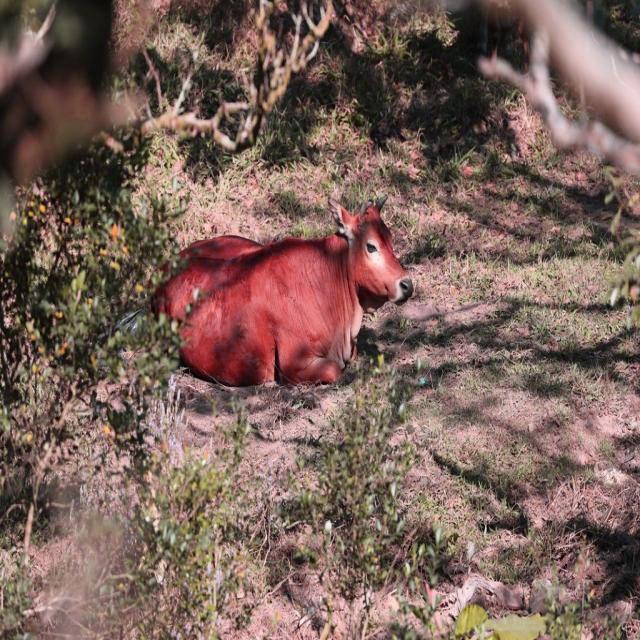cow: (155, 202, 411, 386)
